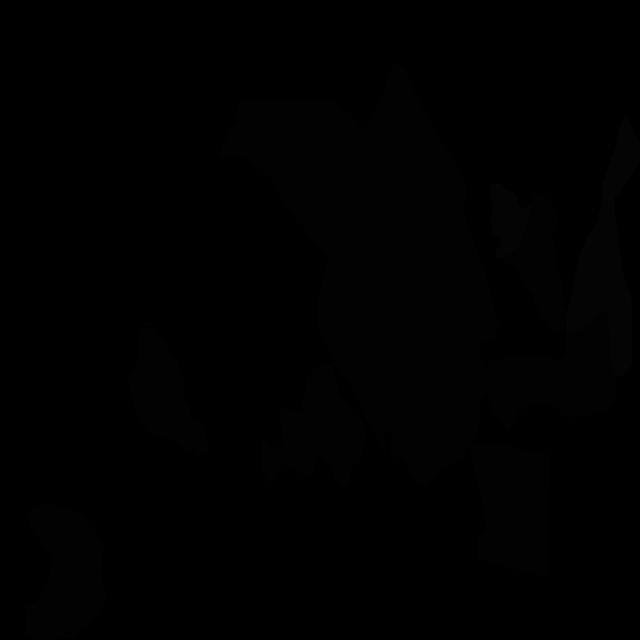cardboard: (301, 60, 501, 487), (218, 99, 364, 228), (485, 310, 616, 434), (316, 260, 395, 458), (261, 364, 367, 486), (24, 505, 107, 640), (469, 442, 550, 576), (128, 321, 208, 456), (504, 191, 566, 333)
soft_plastic: (566, 113, 640, 377), (491, 183, 531, 260)
